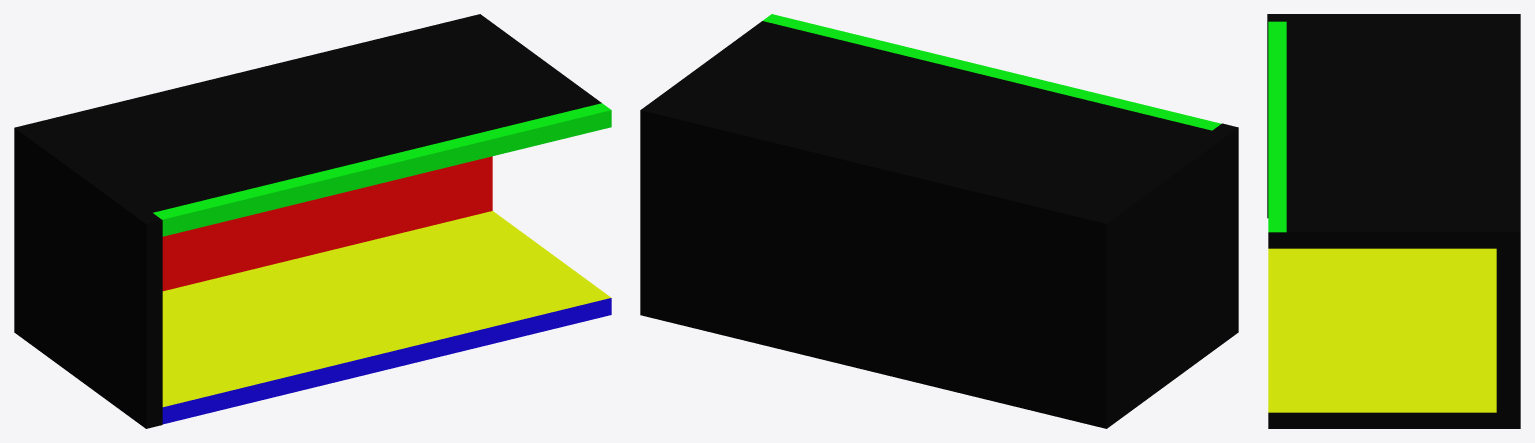
File: esgoto fecha.FBX
3 renders of one model, left to right at view 1: azimuth 30°, elevation 25°; view 2: azimuth 150°, elevation 25°; view 3: azimuth 270°, elevation 25°, orthographic. The views are drawn at different scales.
Parts seen in each view (by area): view 1: Box001; view 2: Box001; view 3: Box001.
Boxes of the visible parts, x1=… form: Box001: x1=14, y1=14, x2=611, y2=428; Box001: x1=640, y1=14, x2=1238, y2=428; Box001: x1=1267, y1=14, x2=1520, y2=428.
Bounding box in the file's own units: 361 × 152 × 177.
